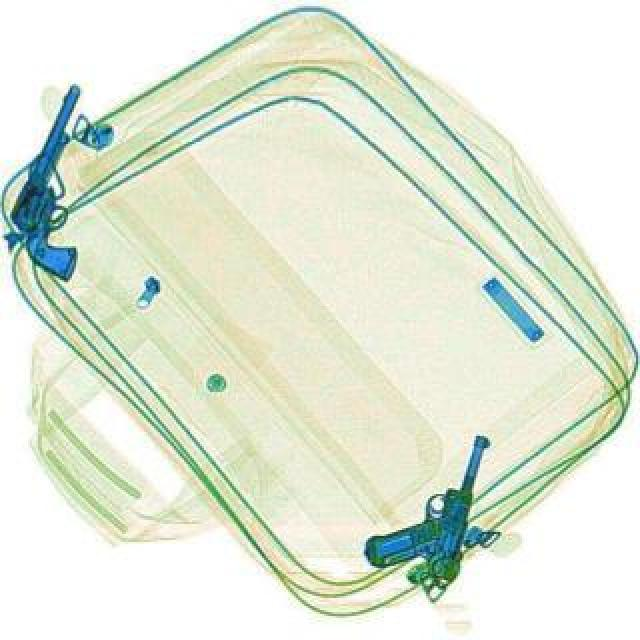gun: (0, 84, 140, 274), (358, 414, 494, 584)
